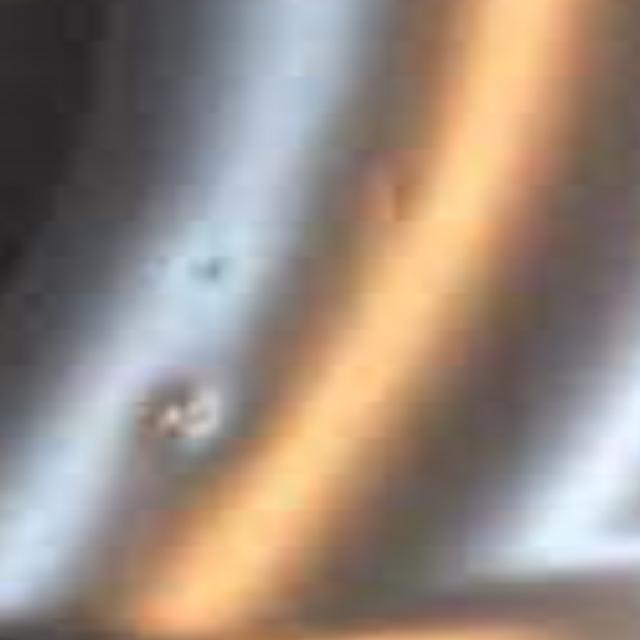dents: (130, 367, 286, 507), (326, 143, 450, 248), (167, 236, 286, 340)
